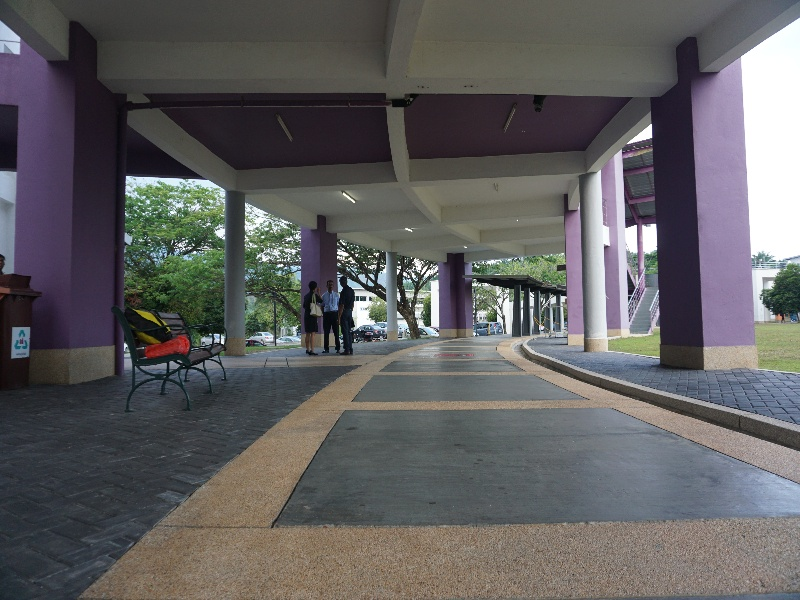Block D Pillar 2: (7, 7, 800, 497)
pillar: (12, 28, 135, 387), (646, 29, 759, 378)
